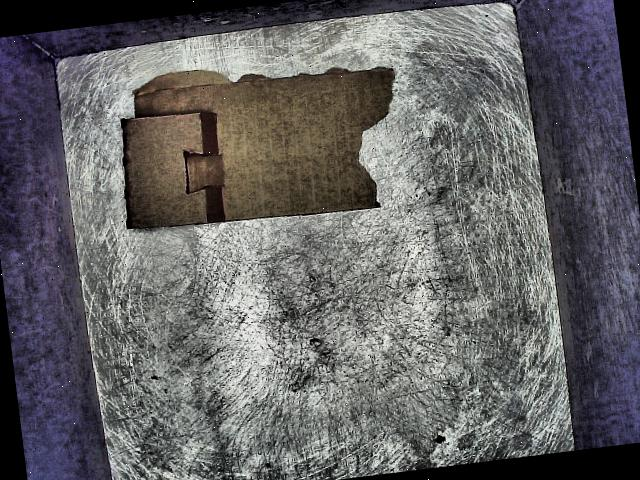Paper: (106, 33, 440, 292)
